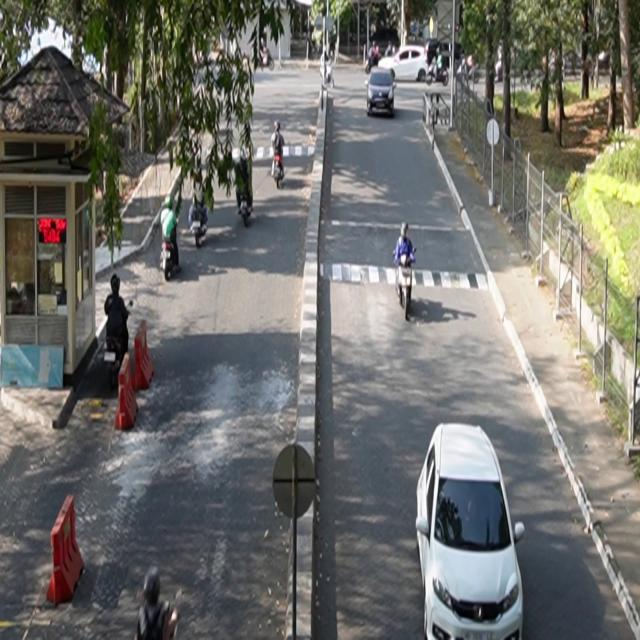car: (416, 423, 526, 640), (365, 68, 397, 118)
